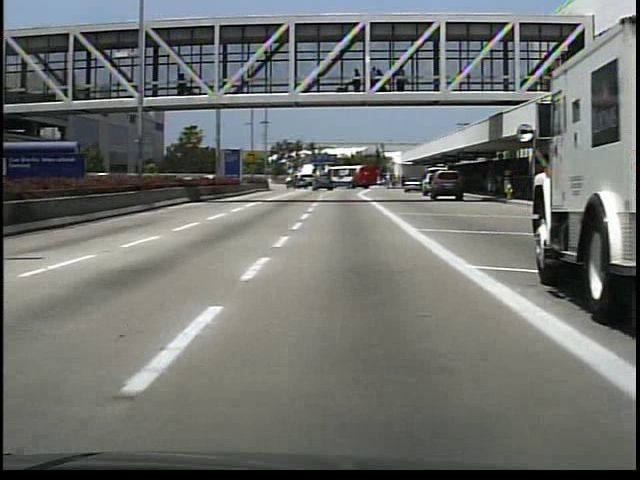person: (350, 65, 367, 94), (177, 71, 194, 98), (485, 171, 499, 199)
